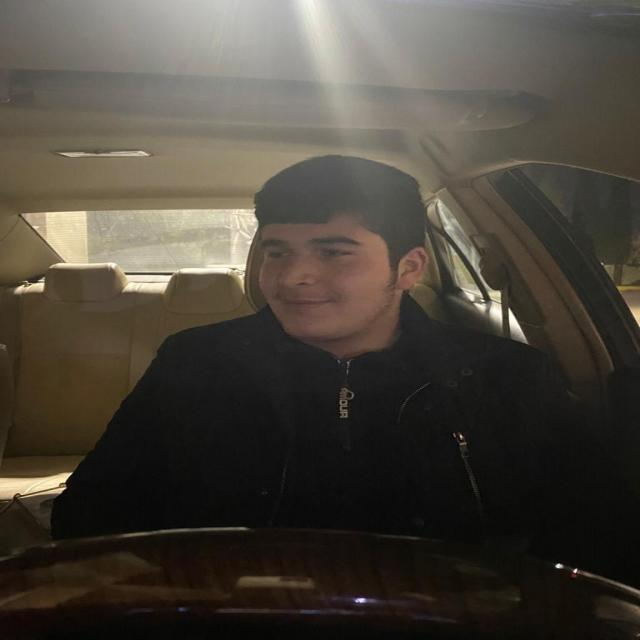person: (240, 148, 446, 354)
